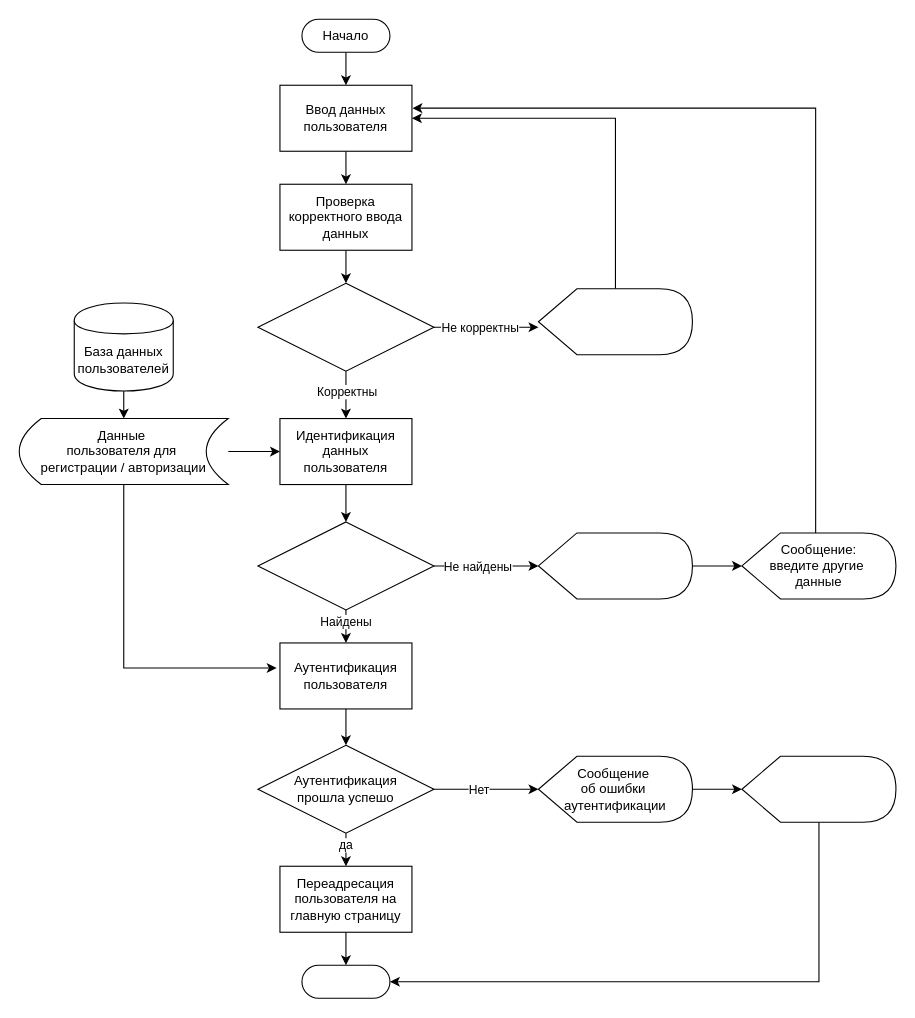
Some shapes in this 915 by 1018 pixel diagram are drawn without their labels. The centre of each missing label's shape, as x and y in pixels:
"Данные корректны?" goes at point 345,326.
"Конец" goes at point 345,981.
"Найдены совпадения?" goes at point 345,565.
"Сообщение об ошибка ввода данных" goes at point 614,321.
"Сообщение: данные не найдены в БД" goes at point 614,565.
"Сообщение: повторите позже" goes at point 818,788.
